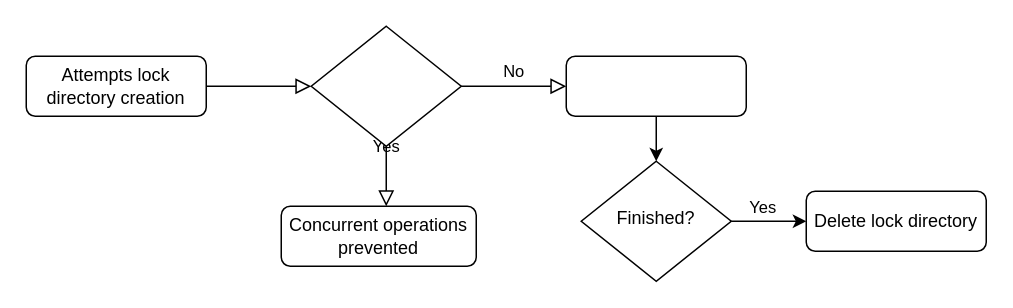
Image size: 1013x308. Some labels were removed from this diagram. The centre of each missing label's shape, as x and y in pixels:
"On going operation" goes at point (655, 85).
"Success?" goes at point (385, 85).
